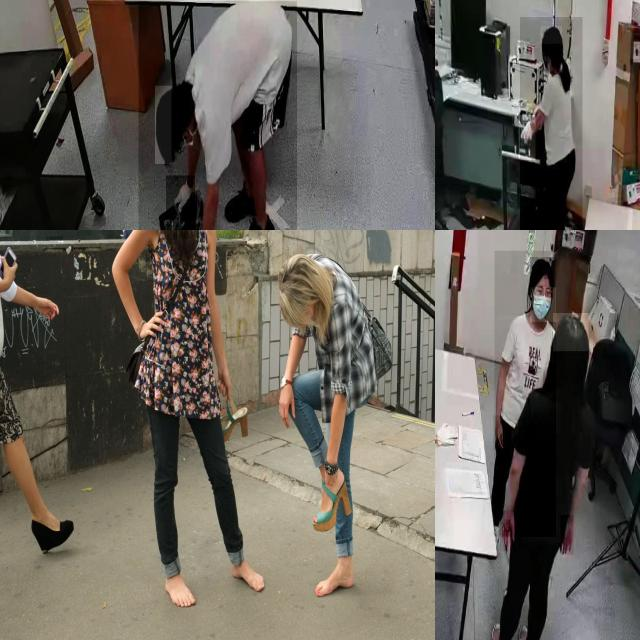Barefoots: (315, 570, 354, 596), (232, 561, 264, 591), (166, 576, 196, 606)
face_mask: (530, 287, 556, 322)
hand_glove: (166, 175, 195, 230), (518, 115, 536, 160)
hand_noglove: (500, 510, 516, 552), (560, 514, 574, 556), (493, 415, 504, 451)
head_nohelmet: (553, 313, 589, 352), (155, 86, 172, 164), (530, 257, 554, 280), (540, 26, 562, 45)
person: (138, 1, 297, 230), (495, 315, 595, 640), (494, 251, 556, 537), (520, 17, 583, 230)
shoes: (225, 175, 265, 225), (230, 214, 276, 230), (489, 616, 511, 640), (515, 619, 536, 640)
